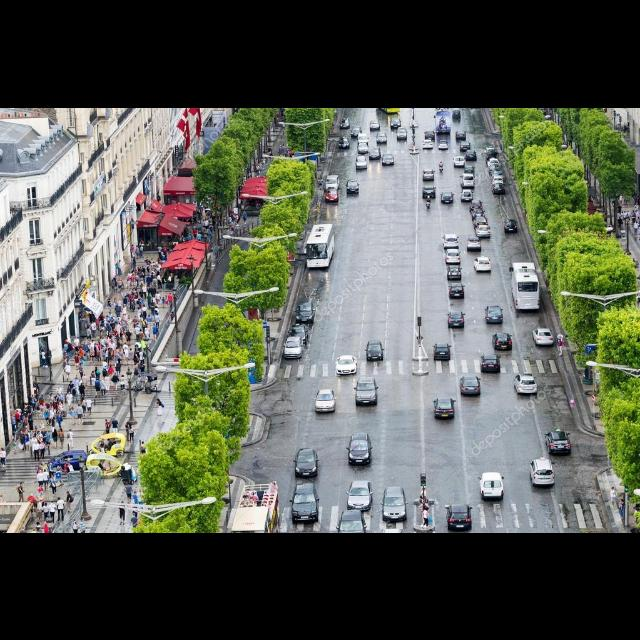head: (154, 305, 160, 321), (81, 517, 85, 521), (20, 482, 24, 486), (31, 493, 35, 497), (41, 499, 45, 503), (44, 502, 48, 506), (57, 497, 61, 501), (66, 490, 70, 494), (44, 468, 48, 472), (38, 462, 42, 466), (68, 463, 72, 467), (128, 482, 132, 486), (134, 490, 138, 494), (21, 431, 25, 435), (23, 414, 27, 418), (45, 409, 49, 413), (114, 372, 118, 376), (104, 358, 108, 362), (42, 348, 46, 352), (140, 348, 144, 352), (134, 316, 138, 320), (148, 314, 152, 318), (116, 304, 120, 308), (122, 304, 126, 308), (108, 300, 112, 304), (114, 298, 118, 302), (158, 272, 162, 276), (426, 507, 430, 511), (620, 499, 624, 503), (65, 338, 69, 342), (51, 474, 54, 478), (112, 416, 116, 419), (12, 438, 15, 442), (26, 434, 29, 438), (46, 431, 50, 434), (59, 428, 62, 432), (18, 406, 22, 409), (58, 412, 61, 416), (70, 381, 74, 384), (74, 376, 78, 379), (82, 382, 85, 386), (92, 371, 96, 374), (80, 346, 84, 349), (124, 346, 128, 349), (134, 351, 138, 354), (112, 316, 115, 320), (112, 278, 115, 282), (612, 486, 616, 489), (122, 501, 125, 504), (102, 441, 105, 444), (41, 421, 44, 424), (82, 396, 85, 399), (95, 366, 98, 369), (92, 346, 95, 349), (102, 336, 105, 339), (105, 336, 108, 339), (74, 518, 76, 522), (40, 470, 44, 472), (58, 464, 62, 466), (108, 438, 110, 442), (130, 422, 132, 426), (2, 448, 4, 452), (38, 432, 42, 434), (54, 428, 56, 432), (70, 428, 72, 432), (44, 428, 46, 432), (16, 410, 20, 412), (72, 406, 74, 410), (32, 394, 34, 398), (68, 392, 72, 394), (74, 384, 76, 388), (96, 378, 100, 380), (122, 374, 126, 376), (68, 362, 70, 366), (80, 362, 82, 366), (110, 364, 112, 368), (136, 366, 140, 368), (140, 364, 144, 366), (64, 350, 68, 352), (74, 354, 78, 356), (124, 342, 128, 344), (88, 324, 90, 328), (126, 330, 130, 332), (156, 312, 158, 316), (138, 306, 140, 310), (124, 296, 128, 298), (132, 296, 136, 298), (156, 292, 160, 294), (141, 266, 143, 270), (560, 338, 562, 342), (560, 332, 562, 336), (632, 210, 636, 212), (46, 520, 49, 522), (51, 500, 54, 502), (105, 420, 108, 422), (41, 442, 44, 444), (10, 414, 13, 416), (41, 394, 44, 396), (88, 396, 90, 399), (58, 386, 61, 388), (102, 380, 105, 382), (76, 336, 78, 339), (94, 321, 96, 324), (160, 245, 162, 248), (237, 213, 240, 215), (245, 210, 248, 212), (606, 212, 608, 215), (136, 514, 138, 516), (140, 490, 142, 492), (142, 442, 144, 444), (128, 422, 130, 424), (158, 398, 160, 400), (36, 442, 38, 444), (30, 416, 32, 418), (78, 404, 80, 406), (84, 374, 86, 376), (108, 374, 110, 376), (104, 368, 106, 370), (130, 348, 132, 350), (138, 340, 140, 342), (137, 325, 139, 327), (146, 326, 148, 328), (144, 318, 146, 320), (107, 316, 109, 318), (110, 312, 112, 314), (118, 315, 120, 317), (144, 304, 146, 306), (152, 304, 154, 306), (152, 300, 154, 302), (140, 296, 142, 298), (148, 293, 150, 295), (170, 292, 172, 294), (144, 284, 146, 286), (154, 265, 156, 267), (132, 244, 134, 246), (428, 196, 430, 198), (321, 177, 323, 179), (440, 161, 442, 163), (636, 221, 638, 223), (619, 216, 621, 218), (624, 211, 626, 213), (637, 203, 639, 205)
person: (61, 336, 74, 359), (118, 499, 128, 526), (56, 496, 66, 522), (64, 460, 74, 486), (26, 492, 36, 516), (420, 506, 430, 530), (154, 398, 166, 417), (16, 482, 26, 504), (49, 474, 59, 496), (124, 482, 134, 504), (32, 440, 42, 462), (41, 468, 50, 492), (48, 499, 56, 525), (66, 488, 74, 514), (98, 437, 108, 457), (126, 422, 136, 442), (38, 440, 48, 460), (42, 430, 52, 450), (36, 392, 46, 412), (78, 396, 88, 416), (70, 384, 80, 404), (110, 371, 120, 391), (40, 348, 50, 368), (41, 501, 50, 523), (37, 498, 45, 522), (36, 468, 44, 492), (76, 402, 84, 426), (67, 379, 77, 398), (36, 431, 44, 454), (57, 426, 65, 449), (68, 426, 76, 449), (136, 294, 146, 312), (136, 488, 144, 510), (111, 416, 119, 438), (19, 430, 27, 452), (70, 404, 78, 426), (610, 486, 618, 508), (132, 491, 140, 512), (124, 421, 132, 442), (0, 447, 8, 468), (24, 432, 32, 453), (66, 391, 74, 412), (94, 377, 102, 398), (90, 318, 98, 339), (119, 374, 128, 392), (36, 462, 44, 482), (140, 440, 148, 460), (9, 414, 17, 434), (14, 410, 22, 430), (14, 405, 22, 425), (85, 396, 93, 416), (55, 384, 63, 404), (72, 376, 80, 396), (99, 378, 107, 398), (64, 362, 72, 382), (94, 366, 102, 386), (62, 348, 70, 368), (77, 347, 85, 367), (85, 324, 93, 344), (618, 498, 626, 518), (104, 418, 112, 437), (558, 338, 566, 357), (557, 332, 565, 351), (56, 462, 64, 480), (38, 420, 46, 438), (55, 411, 63, 429), (30, 393, 38, 411), (78, 382, 86, 400), (104, 374, 112, 392), (77, 362, 85, 380), (90, 370, 98, 388), (107, 363, 115, 381), (139, 363, 147, 381), (73, 352, 81, 370), (139, 348, 147, 366), (134, 339, 142, 357), (134, 324, 142, 342), (145, 313, 153, 331), (114, 304, 122, 322), (114, 303, 122, 321), (166, 291, 174, 309), (140, 282, 148, 300), (41, 426, 48, 446), (133, 365, 141, 381), (141, 304, 149, 320), (234, 213, 242, 229), (241, 210, 249, 226), (88, 346, 95, 364), (52, 428, 58, 448), (22, 414, 28, 434), (126, 328, 132, 348), (44, 408, 50, 427), (154, 312, 160, 331), (100, 337, 108, 351), (144, 326, 152, 340), (154, 290, 162, 304), (28, 415, 34, 433), (82, 373, 88, 391), (102, 365, 108, 383), (124, 346, 130, 364), (74, 336, 80, 354), (122, 341, 128, 359), (132, 314, 138, 332), (150, 303, 156, 321), (122, 294, 128, 312), (157, 271, 163, 289), (151, 264, 157, 282), (104, 436, 112, 449), (11, 437, 17, 453), (102, 358, 108, 374), (128, 347, 134, 363), (132, 350, 138, 366), (141, 317, 147, 333), (106, 314, 112, 330), (110, 315, 116, 331), (107, 310, 113, 326), (116, 314, 122, 330), (121, 304, 127, 320), (154, 305, 160, 321), (150, 300, 156, 316), (112, 297, 118, 313), (130, 295, 136, 311), (147, 293, 153, 309), (111, 278, 117, 294), (157, 243, 163, 259), (104, 334, 110, 348), (136, 306, 142, 320), (107, 300, 113, 314), (130, 244, 136, 258), (634, 201, 640, 215), (603, 211, 609, 225), (319, 177, 325, 190), (141, 266, 147, 278), (426, 195, 432, 207), (618, 216, 624, 228), (622, 210, 628, 222), (631, 208, 637, 220), (439, 160, 445, 170)
